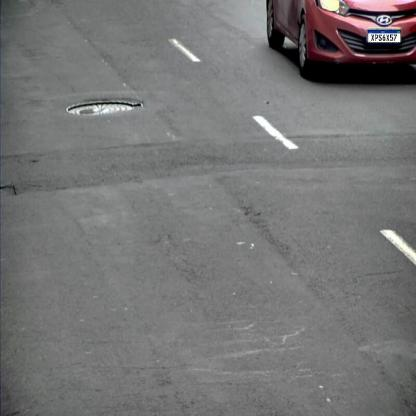PlacaM: (368, 30, 401, 43)
